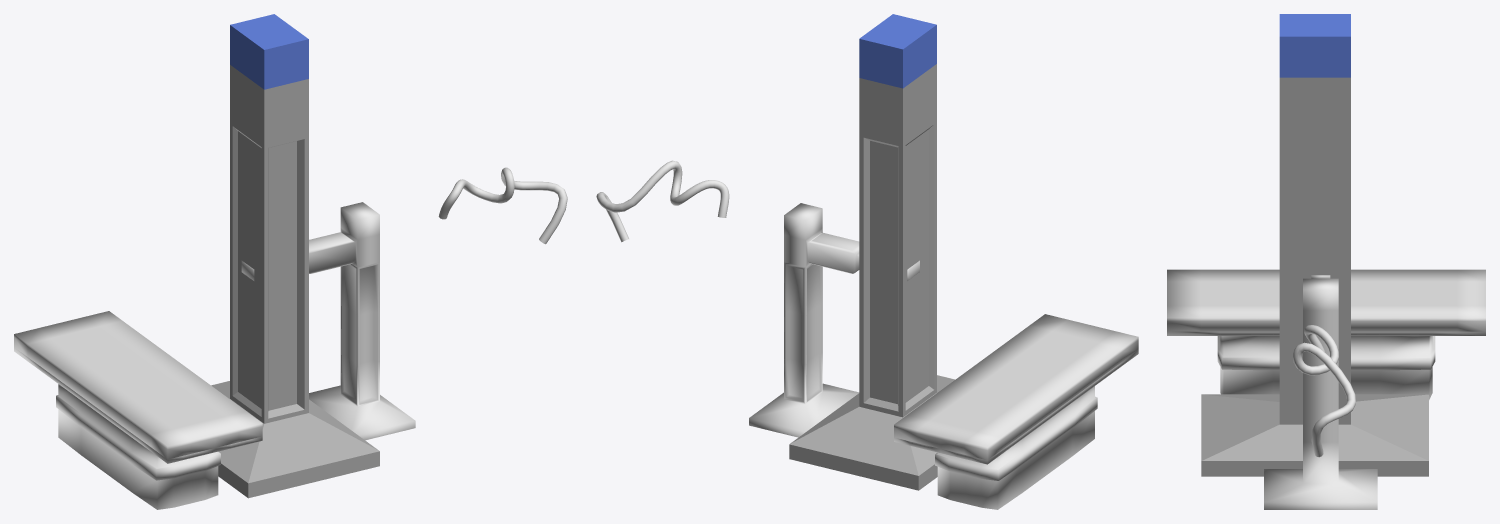
File: Tiang.glb
3 views of the same model, side by side, from view 1: azimuth 30°, elevation 25°; view 2: azimuth 150°, elevation 25°; view 3: azimuth 270°, elevation 25° (orthographic). The views are drawn at different scales.
Parts seen in each view (by area): view 1: Tiang .001, KASUR, Tiang, kabel; view 2: Tiang .001, KASUR, Tiang, kabel; view 3: Tiang .001, KASUR, Tiang, kabel.
Boxes of the visible parts, x1=… form: Tiang .001: x1=211, y1=14, x2=379, y2=498; KASUR: x1=14, y1=311, x2=262, y2=509; Tiang: x1=241, y1=202, x2=415, y2=440; kabel: x1=438, y1=167, x2=567, y2=244; Tiang .001: x1=789, y1=14, x2=954, y2=490; KASUR: x1=894, y1=314, x2=1138, y2=509; Tiang: x1=749, y1=203, x2=919, y2=437; kabel: x1=596, y1=160, x2=729, y2=242; Tiang .001: x1=1201, y1=14, x2=1428, y2=476; KASUR: x1=1167, y1=269, x2=1485, y2=399; Tiang: x1=1264, y1=275, x2=1377, y2=509; kabel: x1=1293, y1=325, x2=1355, y2=457.
Size of the model in its own units: 4.98 by 4.1 by 2.8.
